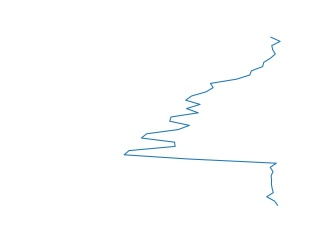proximalDeepseaFan: (116, 35, 286, 210)
